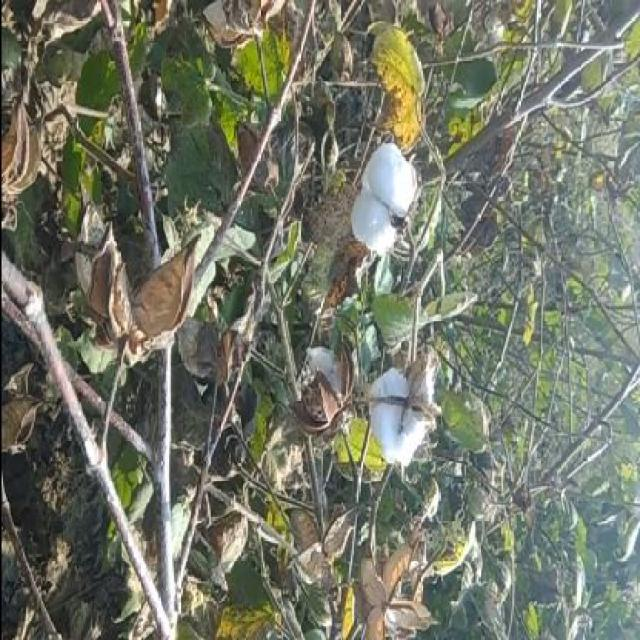cotton_ready: (323, 122, 422, 261), (348, 342, 443, 480)
